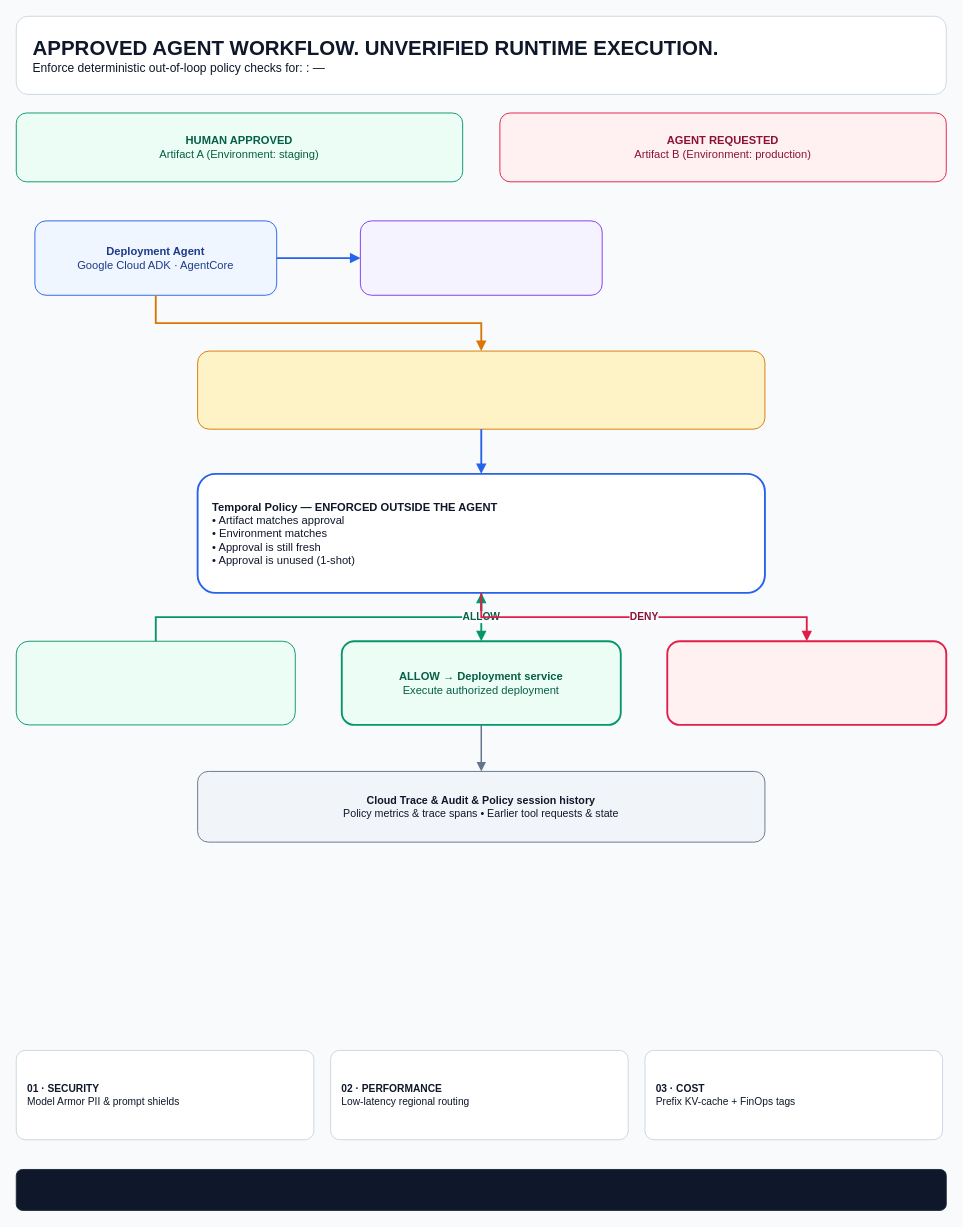
Some shapes in this 963 by 1227 pixel diagram are drawn without their labels. Each missing label, with the centre of its shape:
"Authenticated human approver Approval service (Trusted approval lookup)" belongs at point (155, 682).
"DENY → Action blocked No deployment call is made" belongs at point (806, 682).
"Frontier LLM Vertex AI Gemini · Bedrock" belongs at point (480, 257).
"NITIN AGGARWAL • FLOW-01 • BLUEPRINT T85 • NOVEMBER 2026" belongs at point (480, 1189).
"Policy Gateway (ENFORCEMENT POINT) ADK BeforeToolCallback · Gateway" belongs at point (481, 389).
